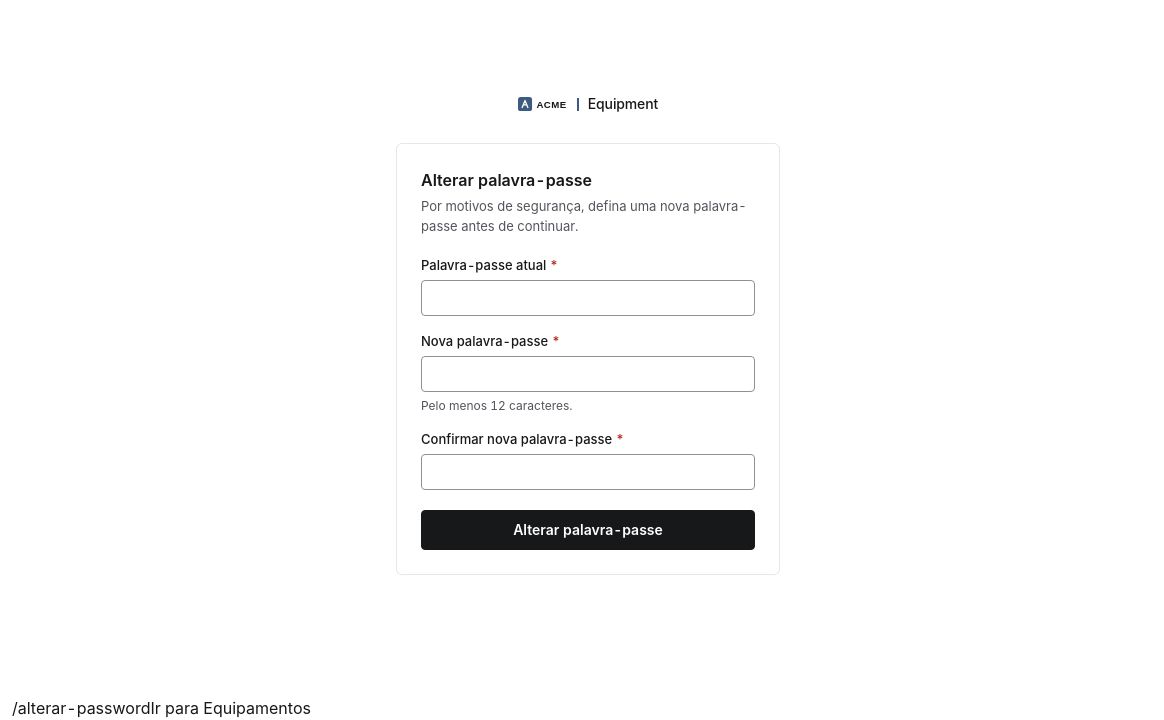
Test case: Alterar palavra-passe › mustChangePassword: every other route is forced to the change-password screen, then released
(page scrolled)
Expected: the text "Por motivos de segurança, defina uma nova palavra-passe antes de continuar." is shown, [421, 196, 755, 236]
Expected: the text with test id "location" reads "/alterar-password", [12, 698, 150, 718]
Note: Still forced: following a link elsewhere is bounced straight back.
Click the link "Ir para Equipamentos": [231, 708] box [150, 698, 311, 718]
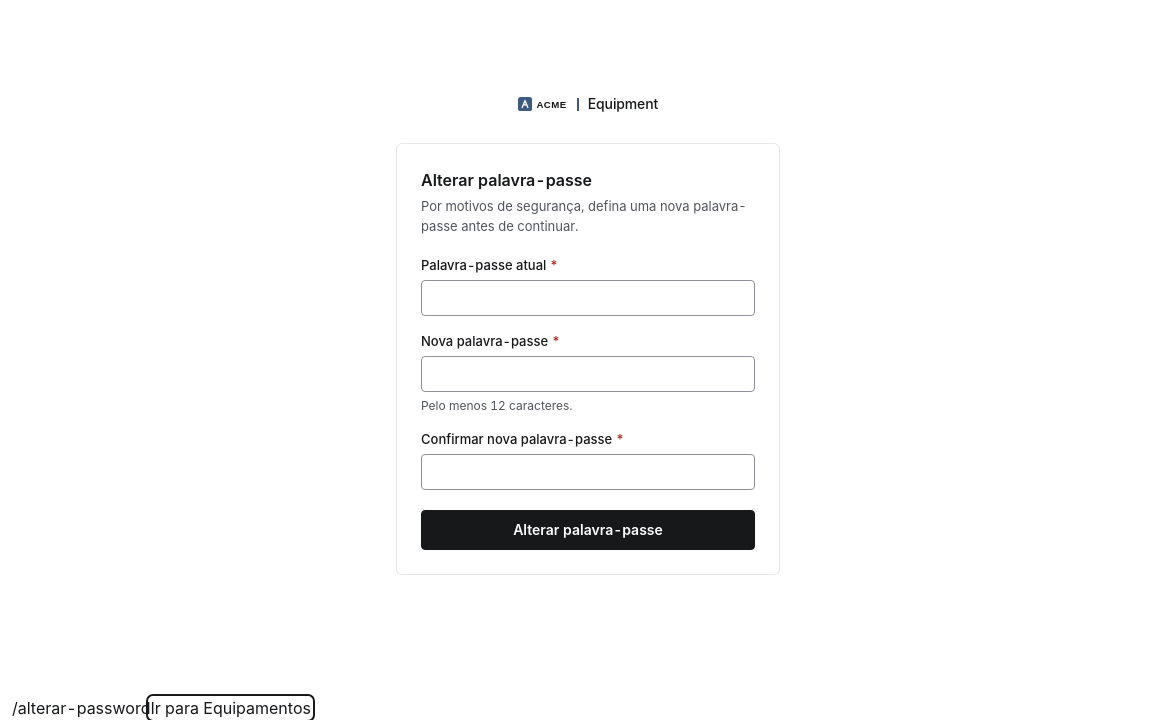
Expected: the text with test id "location" reads "/alterar-password", [12, 698, 150, 718]
In the password field labelled "Palavra-passe atual *": [588, 298] box [421, 280, 755, 316], type "Temporaria-123"
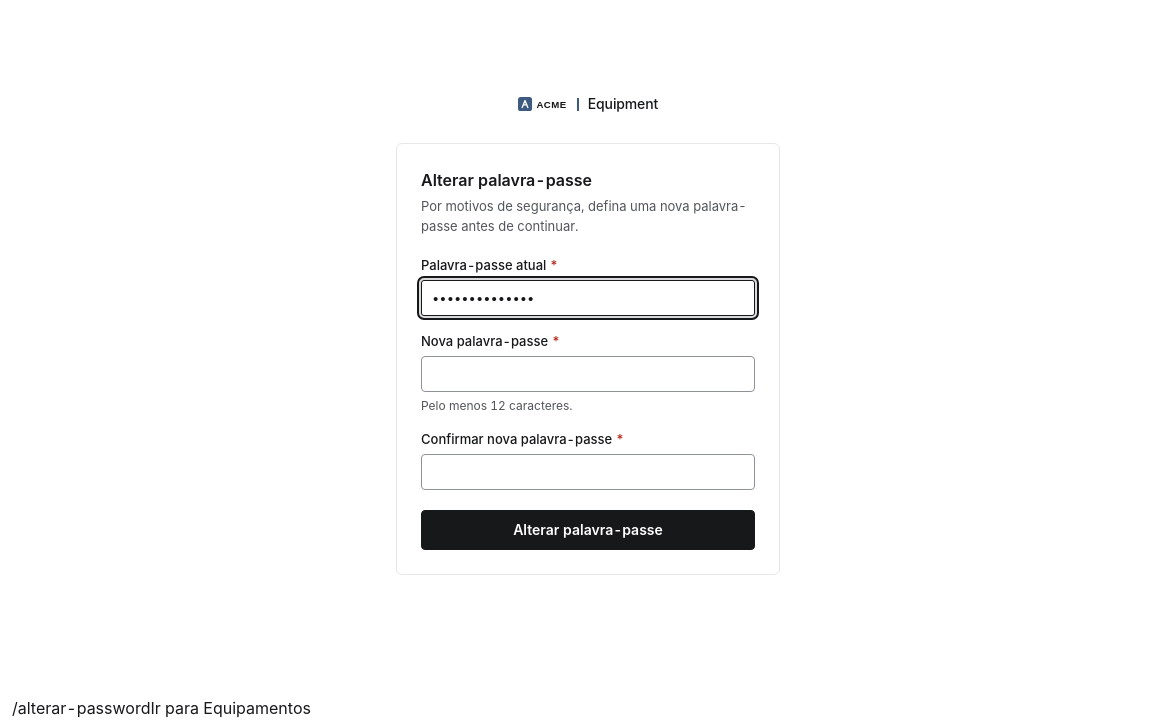
In the password field labelled "Nova palavra-passe *": [588, 374] box [421, 356, 755, 392], type "NovaPalavra123"
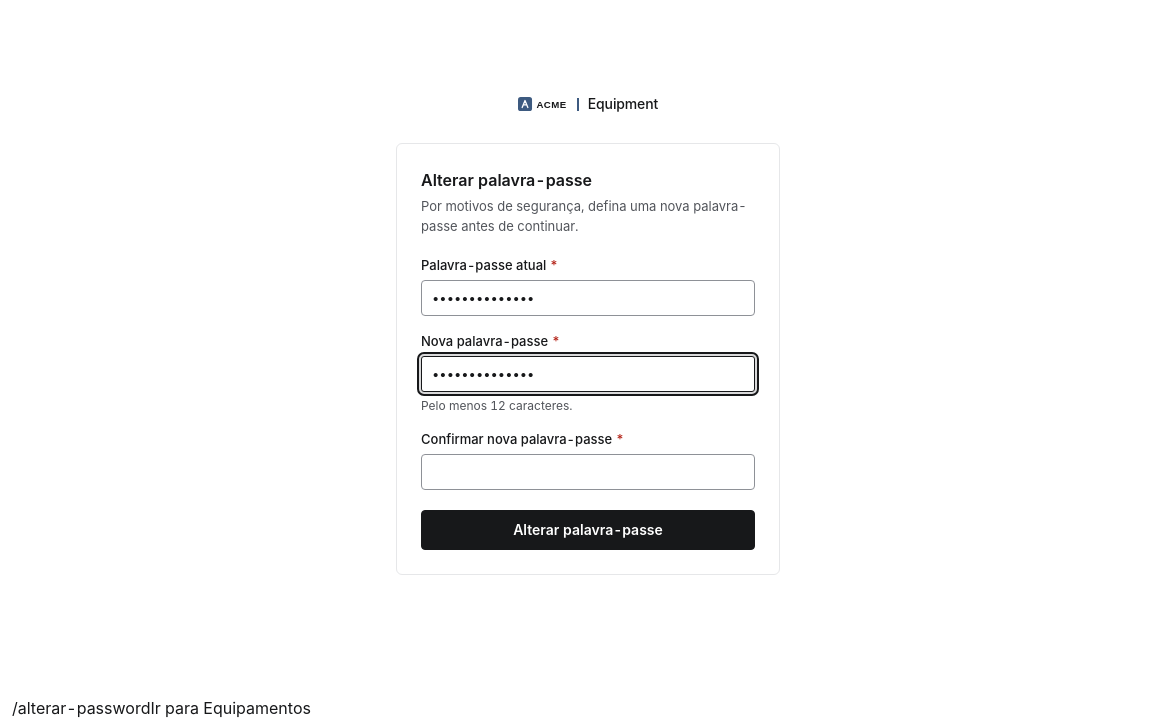
In the password field labelled "Confirmar nova palavra-passe *": [588, 472] box [421, 454, 755, 490], type "NovaPalavra123"
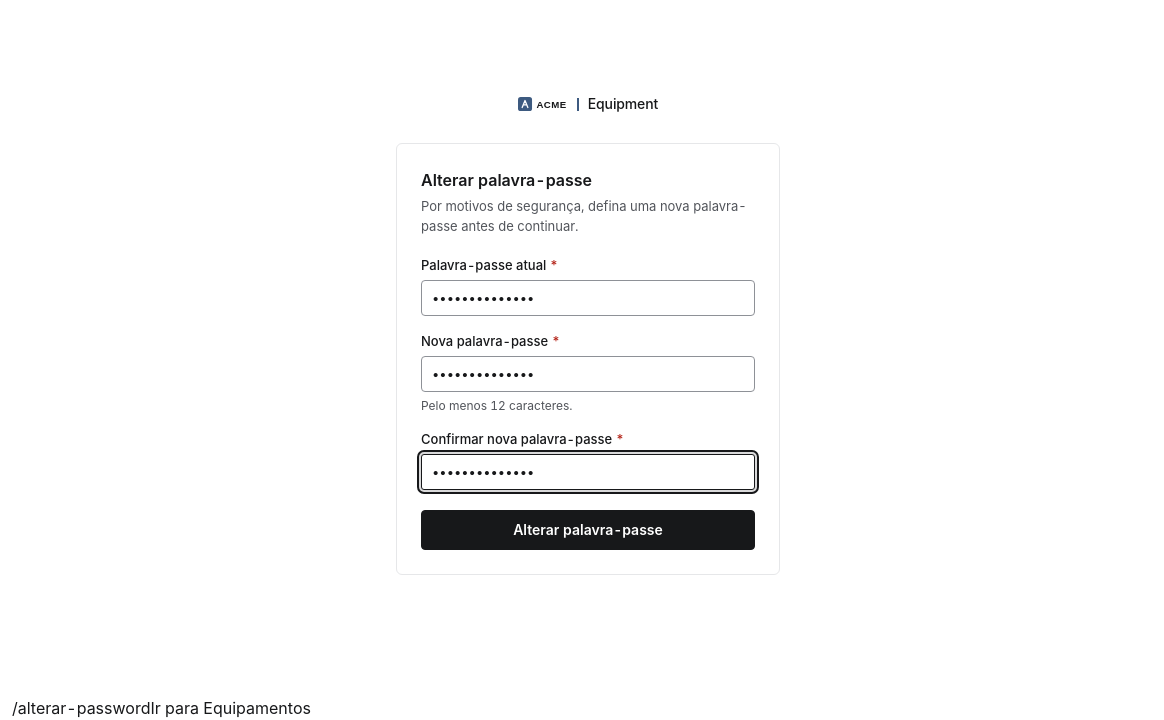
Click the button "Alterar palavra-passe": [588, 530] box [421, 510, 755, 550]
(page scrolled)
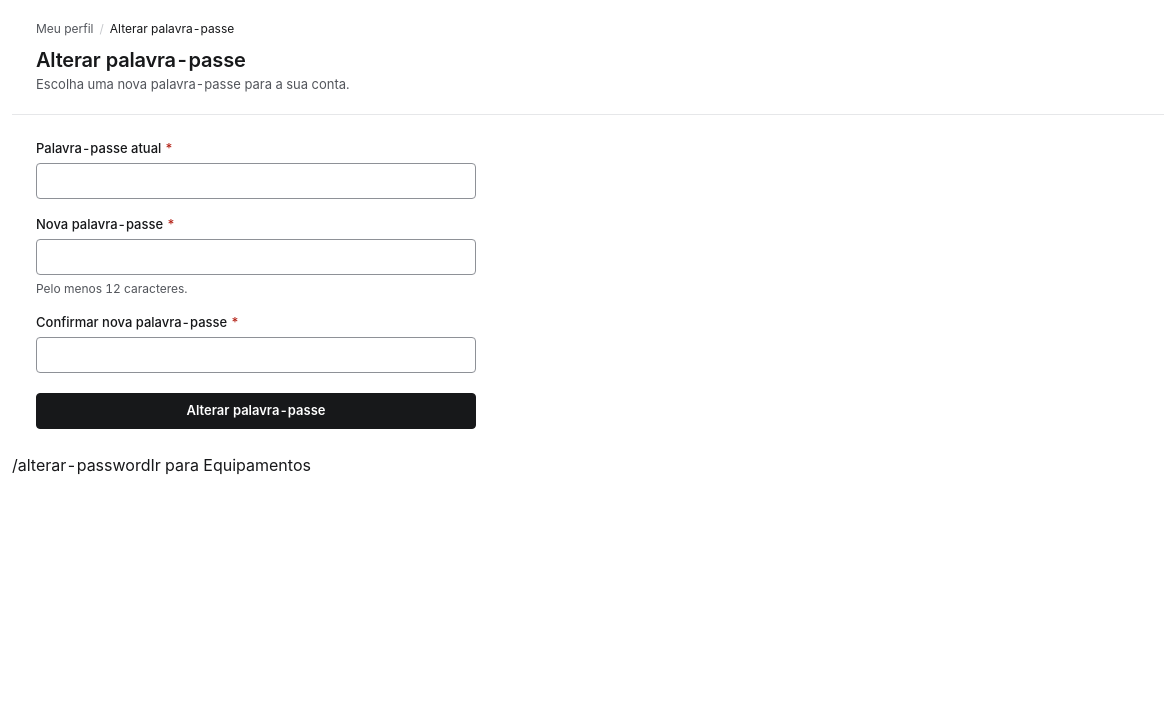
Expected: the text "Por motivos de segurança, defina uma nova palavra-passe antes de continuar." is gone
Note: …and the rest of the application is reachable again.
Click the link "Ir para Equipamentos": [231, 465] box [150, 455, 311, 475]
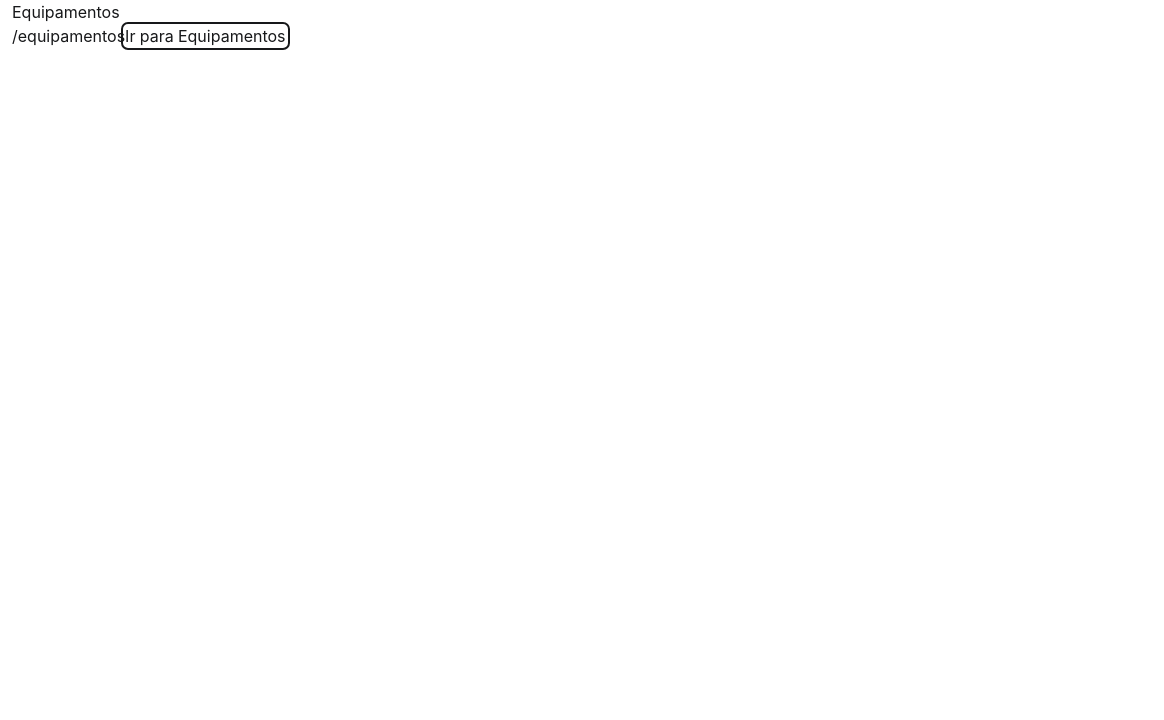
Expected: the text "Equipamentos" is shown, [12, 2, 120, 22]
Expected: the text with test id "location" reads "/equipamentos", [12, 26, 125, 46]
